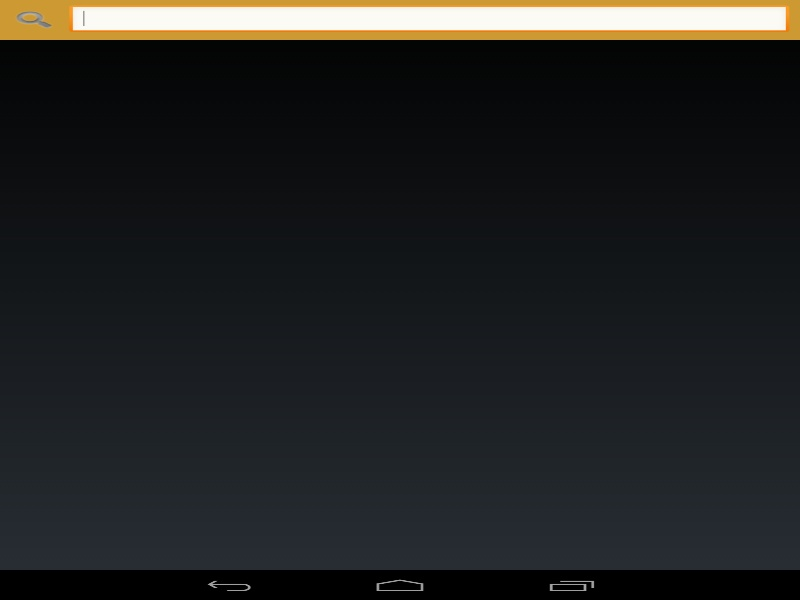Input: (69, 5, 789, 35)
